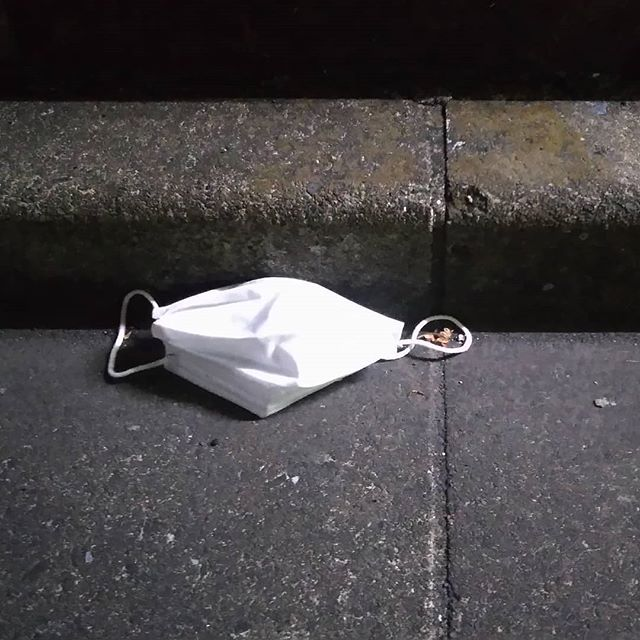trash: (93, 234, 455, 445)
